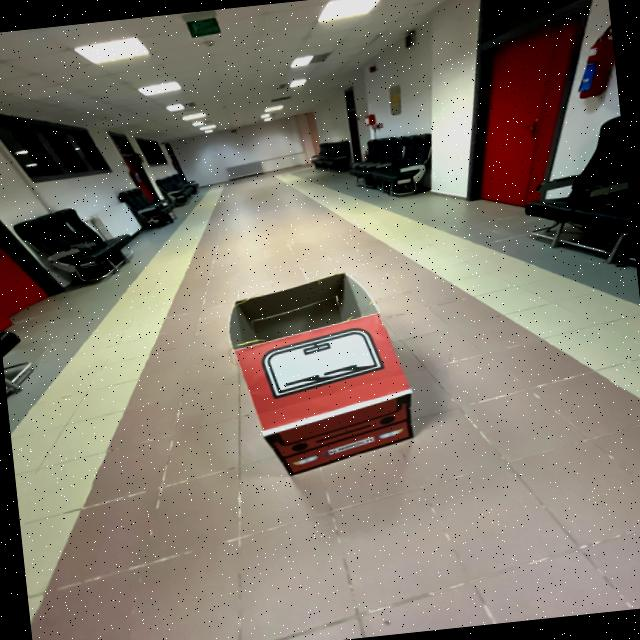red_car: (212, 250, 445, 488)
